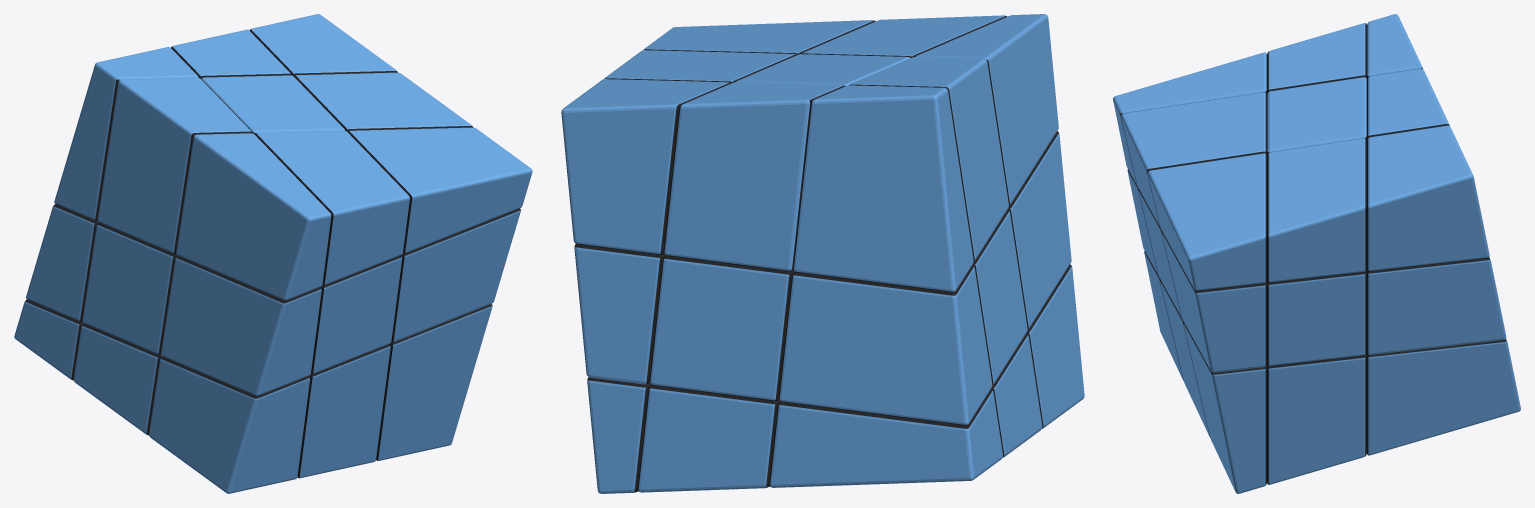
Rendered from ghost_cube_steel_blue.glb.
3 renders of one model, left to right at view 1: azimuth 30°, elevation 25°; view 2: azimuth 150°, elevation 25°; view 3: azimuth 270°, elevation 25°, orthographic. The views are drawn at different scales.
Parts seen in each view (by area): view 1: GhostPiece_-1_-1_1, GhostPiece_-1_0_1, GhostPiece_-1_-1_0, GhostPiece_-1_-1_-1, GhostPiece_1_-1_1, GhostPiece_0_-1_1, GhostPiece_1_-1_-1, GhostPiece_1_-1_0, GhostPiece_0_-1_-1, GhostPiece_-1_0_0, GhostPiece_-1_1_1, GhostPiece_0_-1_0 (+7 smaller); view 2: GhostPiece_-1_1_1, GhostPiece_-1_1_0, GhostPiece_0_1_1, GhostPiece_1_1_1, GhostPiece_0_1_0, GhostPiece_-1_1_-1, GhostPiece_0_1_-1, GhostPiece_-1_-1_1, GhostPiece_1_1_0, GhostPiece_-1_0_1, GhostPiece_-1_-1_0, GhostPiece_-1_-1_-1 (+7 smaller); view 3: GhostPiece_1_1_1, GhostPiece_1_0_1, GhostPiece_1_1_-1, GhostPiece_1_-1_1, GhostPiece_1_1_0, GhostPiece_1_0_-1, GhostPiece_0_-1_1, GhostPiece_1_0_0, GhostPiece_1_-1_-1, GhostPiece_1_-1_0, GhostPiece_0_0_1, GhostPiece_-1_-1_1 (+7 smaller).
Boxes of the visible parts, bbox=[...] form: GhostPiece_-1_-1_1: bbox=[176, 133, 331, 300]; GhostPiece_-1_0_1: bbox=[97, 77, 252, 253]; GhostPiece_-1_-1_0: bbox=[161, 256, 321, 396]; GhostPiece_-1_-1_-1: bbox=[149, 357, 310, 493]; GhostPiece_1_-1_1: bbox=[348, 127, 532, 253]; GhostPiece_0_-1_1: bbox=[255, 130, 410, 285]; GhostPiece_1_-1_-1: bbox=[376, 304, 492, 460]; GhostPiece_1_-1_0: bbox=[391, 208, 520, 342]; GhostPiece_0_-1_-1: bbox=[297, 344, 390, 478]; GhostPiece_-1_0_0: bbox=[82, 223, 177, 354]; GhostPiece_-1_1_1: bbox=[54, 47, 198, 220]; GhostPiece_0_-1_0: bbox=[311, 255, 402, 374]; GhostPiece_-1_1_1: bbox=[793, 85, 973, 292]; GhostPiece_-1_1_0: bbox=[779, 265, 992, 425]; GhostPiece_0_1_1: bbox=[664, 82, 844, 271]; GhostPiece_1_1_1: bbox=[561, 79, 730, 254]; GhostPiece_0_1_0: bbox=[649, 255, 795, 400]; GhostPiece_-1_1_-1: bbox=[769, 388, 1002, 487]; GhostPiece_0_1_-1: bbox=[638, 385, 780, 492]; GhostPiece_-1_-1_1: bbox=[916, 14, 1058, 205]; GhostPiece_1_1_0: bbox=[574, 244, 665, 384]; GhostPiece_-1_0_1: bbox=[850, 57, 1008, 260]; GhostPiece_-1_-1_0: bbox=[1008, 131, 1071, 329]; GhostPiece_-1_-1_-1: bbox=[1026, 264, 1084, 428]; GhostPiece_1_1_1: bbox=[1367, 125, 1489, 271]; GhostPiece_1_0_1: bbox=[1267, 138, 1366, 282]; GhostPiece_1_1_-1: bbox=[1367, 339, 1520, 455]; GhostPiece_1_-1_1: bbox=[1148, 153, 1266, 290]; GhostPiece_1_1_0: bbox=[1367, 257, 1506, 354]; GhostPiece_1_0_-1: bbox=[1267, 353, 1366, 484]; GhostPiece_0_-1_1: bbox=[1121, 92, 1266, 227]; GhostPiece_1_0_0: bbox=[1267, 269, 1366, 366]; GhostPiece_1_-1_-1: bbox=[1183, 322, 1266, 493]; GhostPiece_1_-1_0: bbox=[1162, 232, 1266, 372]; GhostPiece_0_0_1: bbox=[1267, 77, 1366, 155]; GhostPiece_-1_-1_1: bbox=[1113, 52, 1266, 184].
Size of the model in its own units: 8.21 by 7.92 by 8.17.
